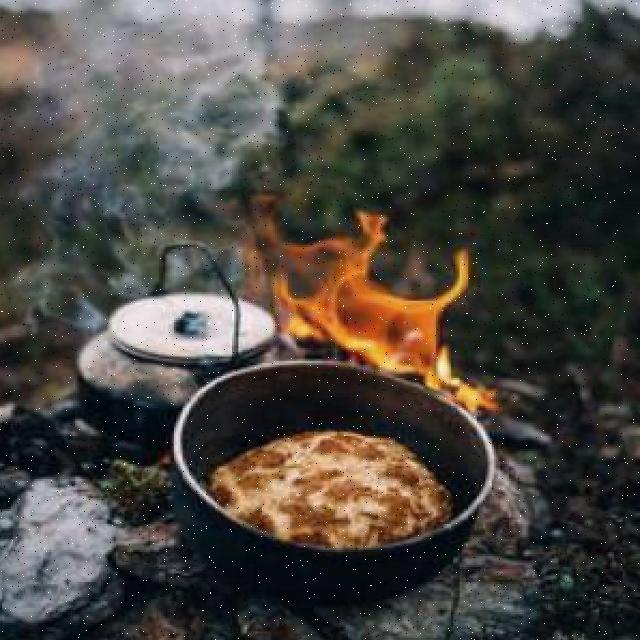fire: (270, 219, 504, 380)
smoke: (32, 8, 280, 302)
